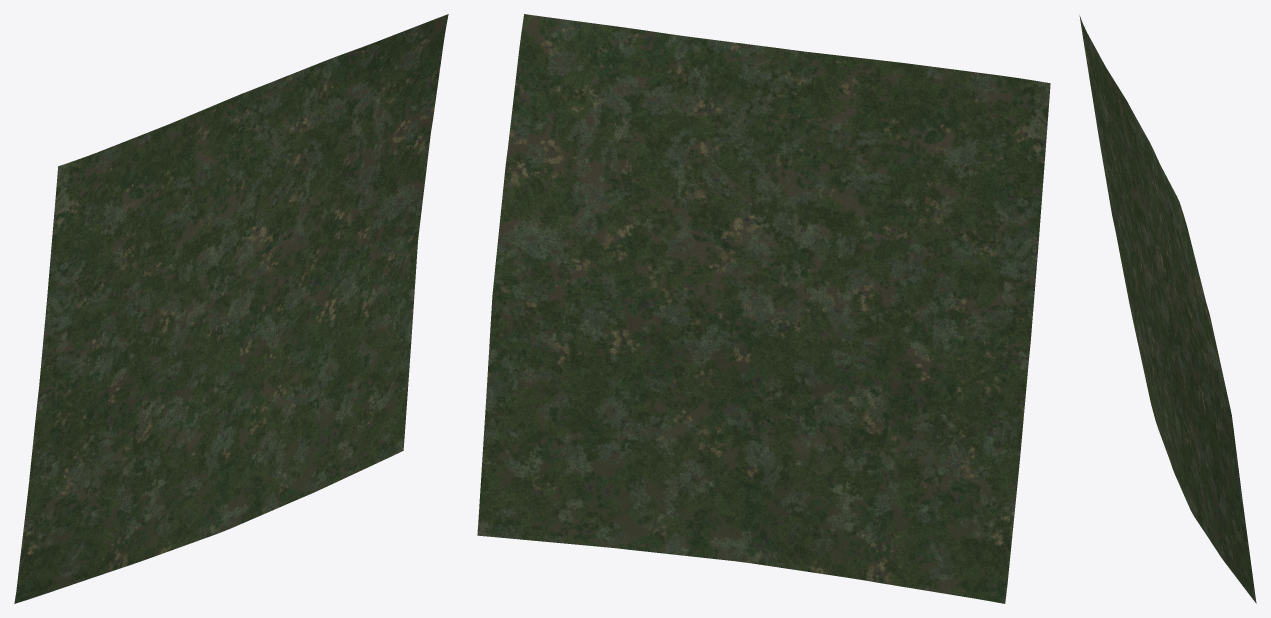
File: terrain_near_08_06.obj
3 views of the same model, side by side, from view 1: azimuth 30°, elevation 25°; view 2: azimuth 150°, elevation 25°; view 3: azimuth 270°, elevation 25° (orthographic). The views are drawn at different scales.
Visible parts, largest first — view 1: terrain_near_08_06; view 2: terrain_near_08_06; view 3: terrain_near_08_06.
Boxes of the visible parts, x1,y1,x2,y2 form: terrain_near_08_06: (14,14,448,603); terrain_near_08_06: (477,14,1050,603); terrain_near_08_06: (1079,15,1256,603).
Size of the model in its own units: 64 by 64 by 25.55.
Materials: 1 (1 with a texture image).
